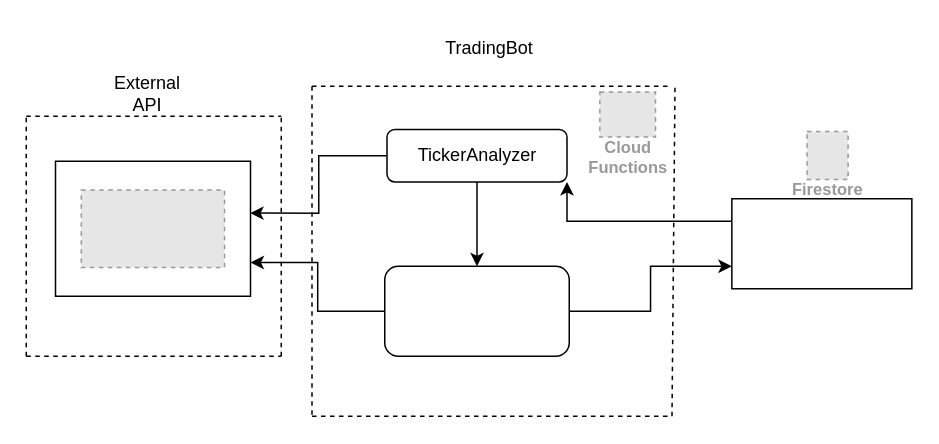
Image size: 939x444. Some labels were removed from this diagram. Grey dashed boxes stand in for pictures. Here are the shapes that lost their labels. From the top down, the centre of each, then its label:
At (x=821, y=243): "History-daily -operations".
At (x=476, y=310): "OperationBot".
